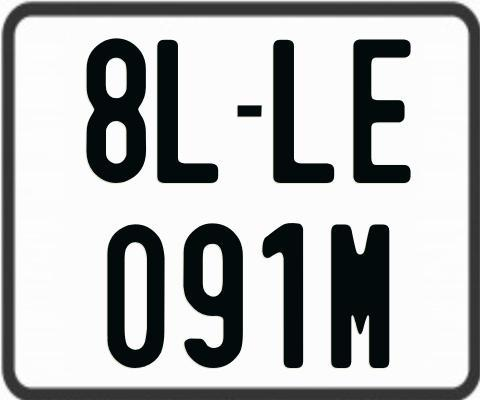0: (107, 223, 171, 373)
1: (261, 223, 302, 372)
8: (85, 37, 149, 182)
9: (182, 223, 247, 374)
E: (352, 36, 411, 183)
L: (271, 37, 338, 183), (155, 40, 218, 186)
M: (331, 222, 394, 371)
